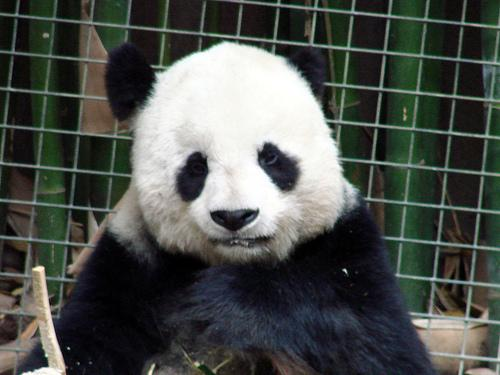panda: (55, 42, 435, 375)
